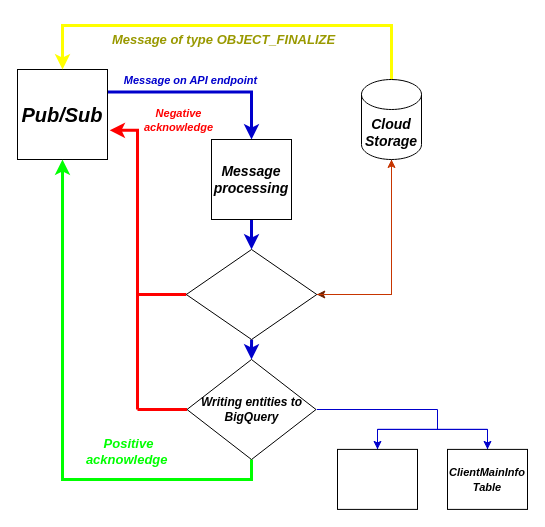
Some shapes in this 545 by 527 pixel diagram are drawn without their labels. Each missing label, with the centre of its shape:
Client Table: point (377, 478)
Fetching of a file: point (251, 294)
